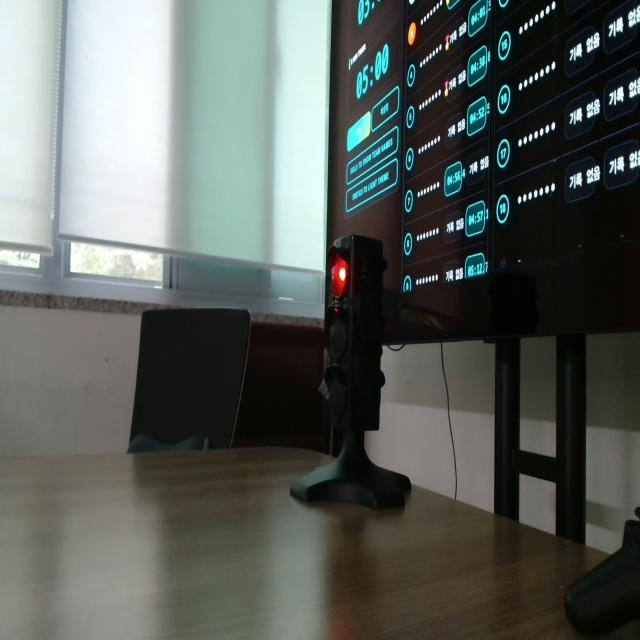red_light: (332, 256, 347, 298), (339, 267, 346, 282)
